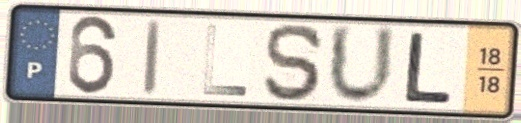6: (65, 14, 119, 97)
I: (141, 17, 165, 99)
L: (400, 30, 456, 107), (200, 21, 251, 98)
S: (261, 21, 327, 105)
U: (325, 21, 399, 109)
